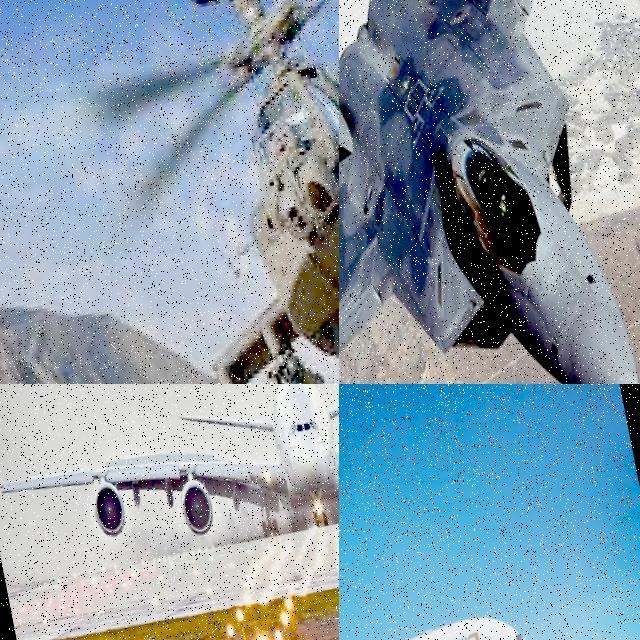A380: (0, 384, 339, 582), (339, 523, 554, 640)
Apache: (68, 0, 339, 384)
F22: (339, 0, 640, 384)
